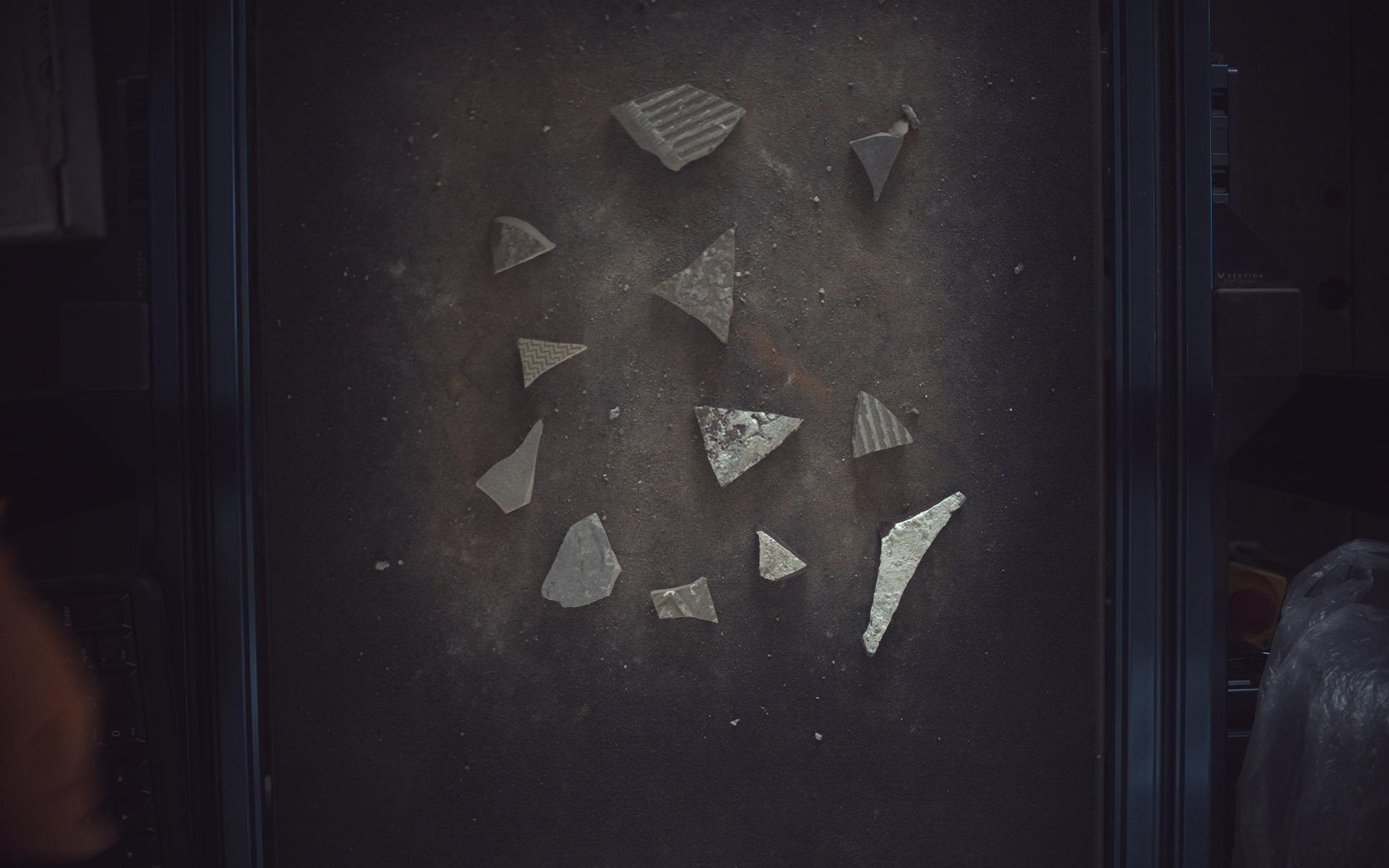tile: (865, 492, 967, 655), (611, 82, 745, 170), (653, 228, 736, 343), (695, 407, 804, 487), (542, 513, 622, 608), (851, 103, 922, 200), (477, 420, 543, 514), (854, 391, 914, 458), (490, 216, 556, 273), (518, 338, 587, 387), (652, 577, 719, 624), (758, 531, 808, 582)
